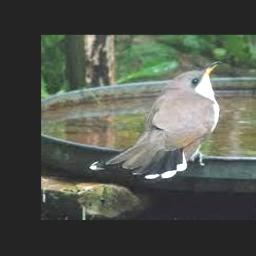Cuckoo: (90, 61, 223, 178)
